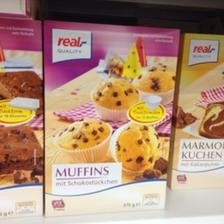Kuchen: (42, 15, 180, 219), (170, 22, 222, 190)
